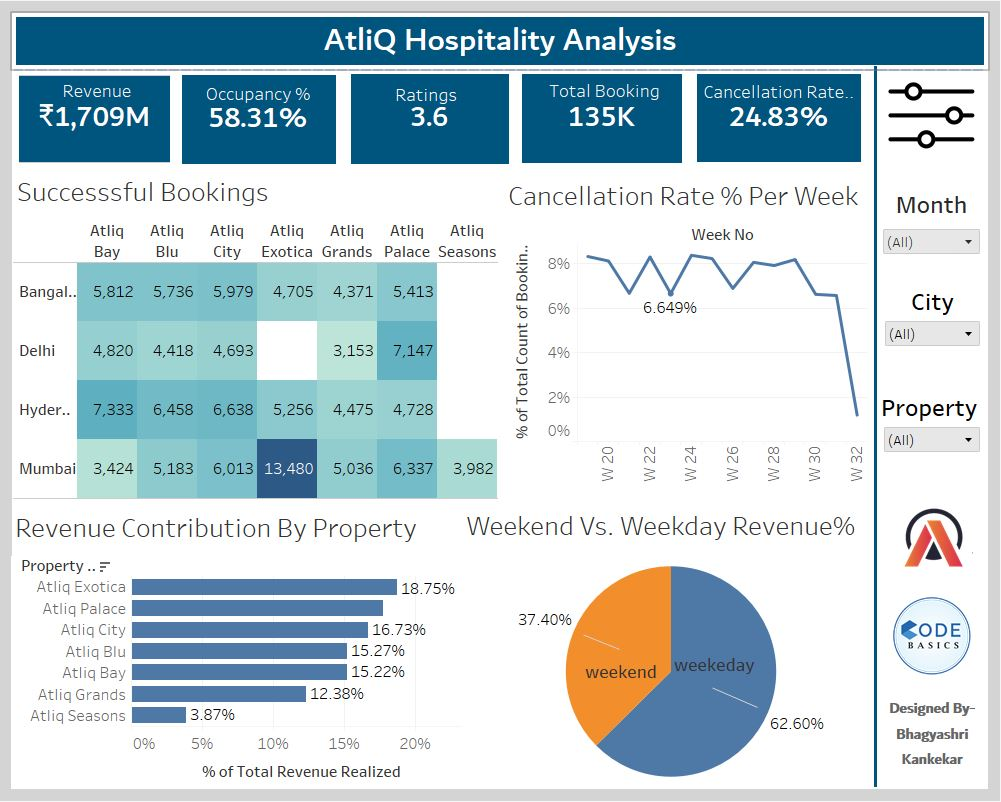

Layout of this report page (visuals, bound fields, positions):
{"tool":"tableau","page":{"name":"Dashboard 1","canvas":[1000,800],"ordinal":0},"visuals":[{"type":"title","box":[8,8,984,377]},{"type":"legend","title":"4","param":"[federated.1kk7z6c1ljruoi1g5q7ej1rag9ws].[sum:successful_bookings:qk]","box":[800,33,172,88]},{"type":"worksheet","title":"3","mark":"Automatic","box":[349,141,169,98]},{"type":"text","box":[376,141,100,30]},{"type":"worksheet","title":"2","mark":"Automatic","box":[184,142,162,98]},{"type":"text","box":[210,142,100,30]},{"type":"text","box":[22,143,152,31]},{"type":"worksheet","title":"1","mark":"Automatic","box":[24,143,161,99]},{"type":"worksheet","title":"4","mark":"Square","rows":["city"],"cols":["property_name"],"box":[20,246,537,322]}]}

Visuals, with their boxes in screenshot pixels (x1, y1, x2, y2), scaled from the page's 1000x800 canvas onto the 1001x802 screenshot:
title: bbox(8, 8, 993, 386)
"4" legend: bbox(801, 33, 973, 121)
"3" worksheet: bbox(349, 141, 519, 240)
text: bbox(376, 141, 476, 171)
"2" worksheet: bbox(184, 142, 346, 241)
text: bbox(210, 142, 310, 172)
text: bbox(22, 143, 174, 174)
"1" worksheet: bbox(24, 143, 185, 243)
"4" worksheet (Square marks): bbox(20, 247, 558, 569)
